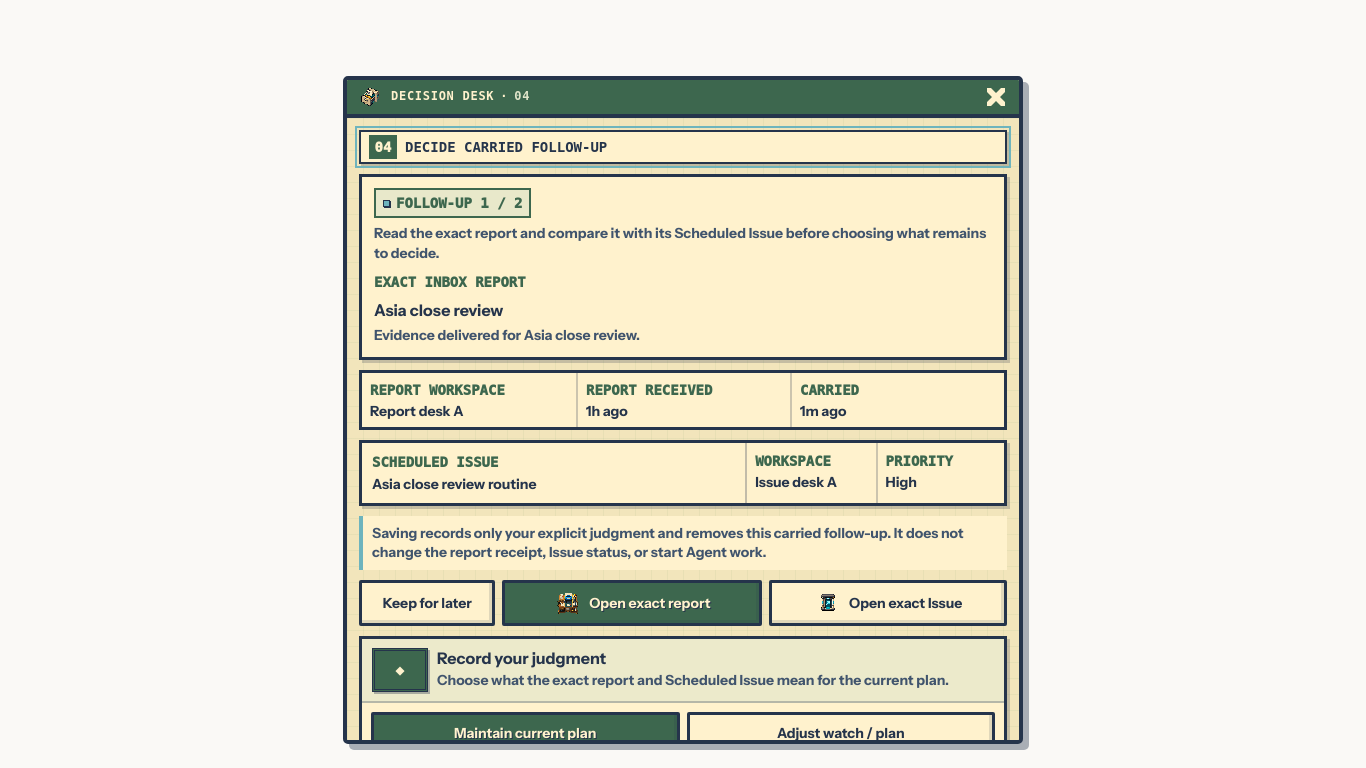
Test: OfficeRoutineDecisionDesk › keeps a failed revised judgment and its note available for an exact retry
Click the button "Adjust watch / plan" at (841, 734), box [686,712,995,756]
(page scrolled)
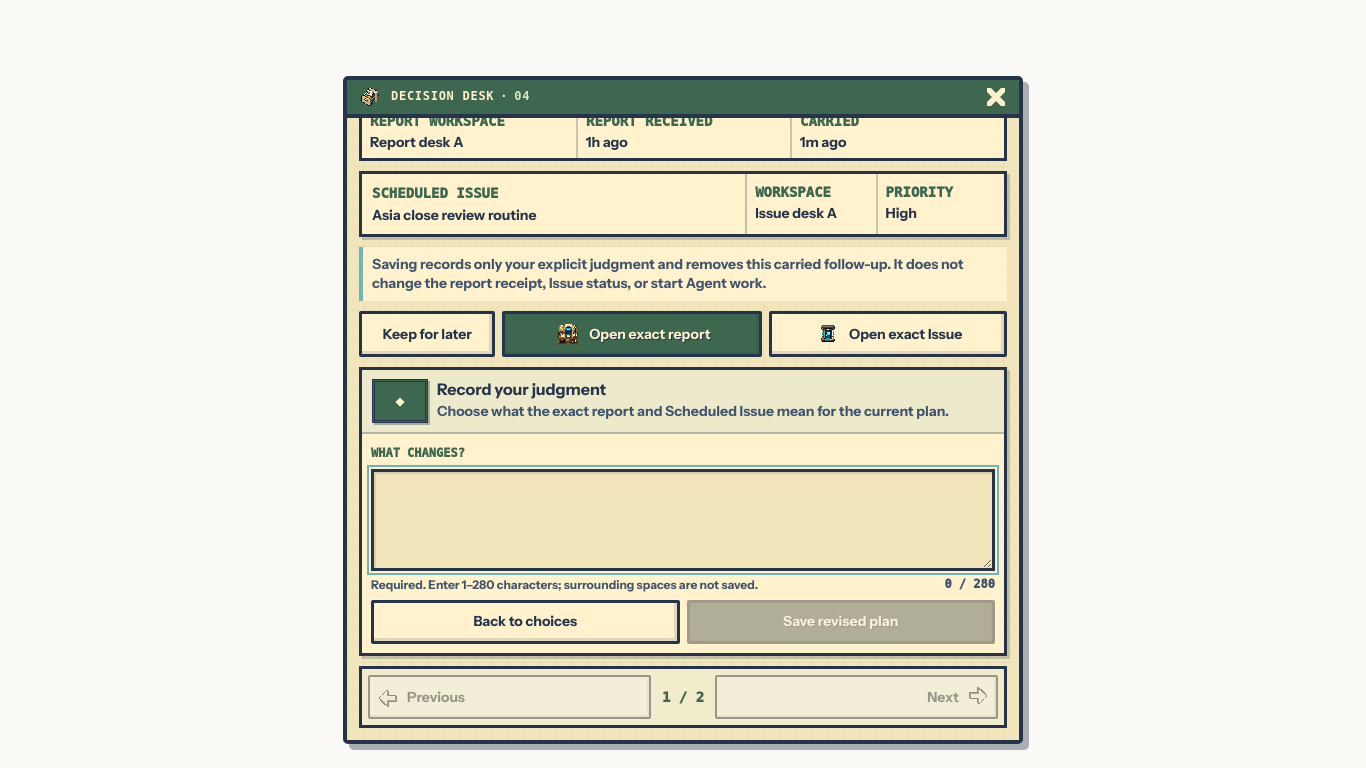
Type "Tighten the downside watch level." into the text box labelled "What changes?" at (683, 520), box [371,469,995,571]
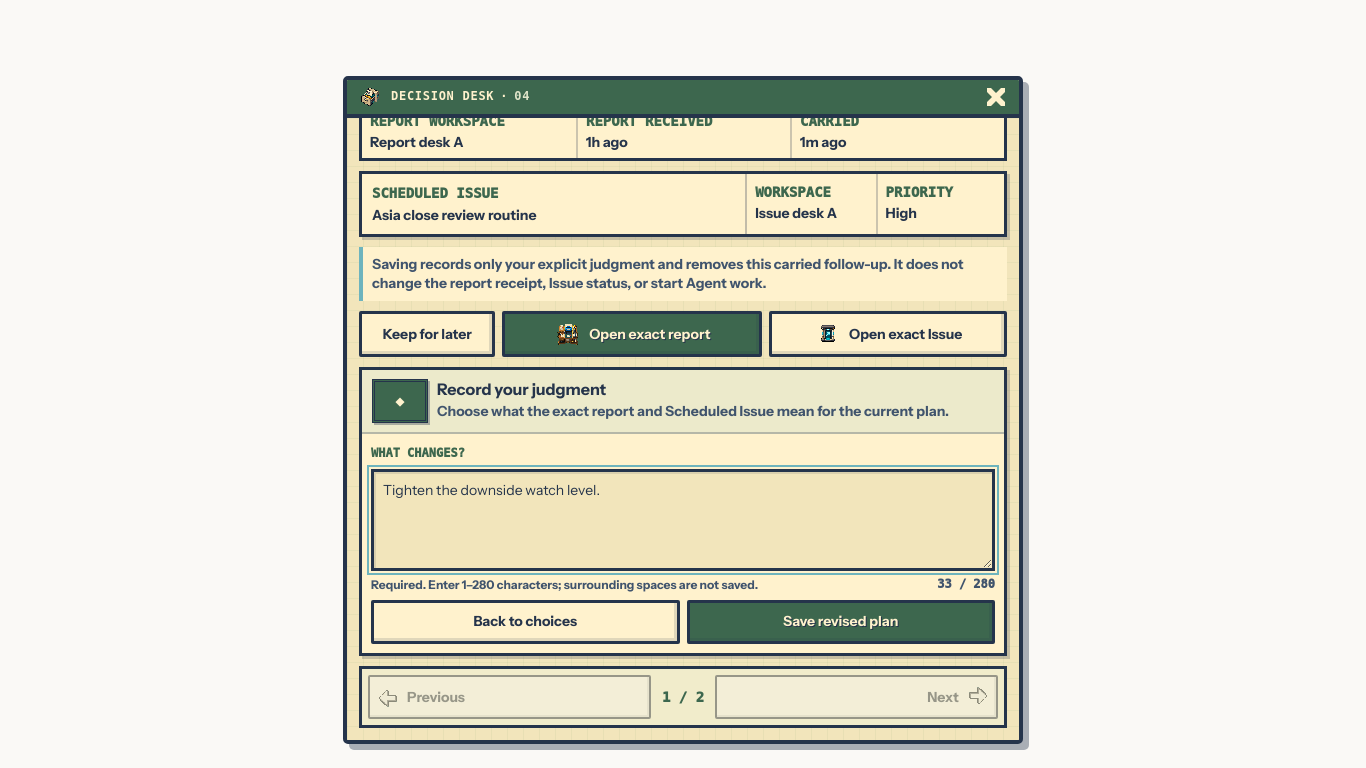
Click the button "Save revised plan" at (841, 622), box [686,600,995,644]
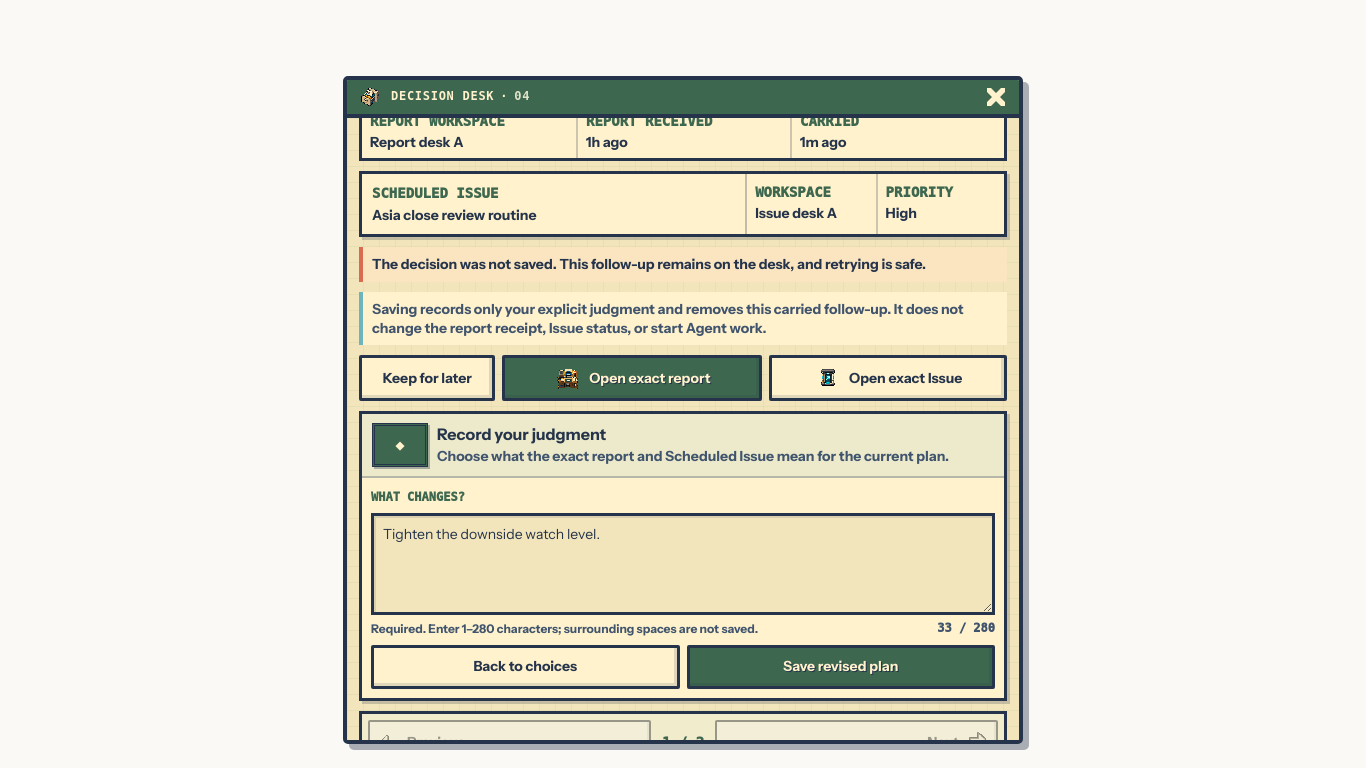
Now the message shows "The decision was not saved. This follow-up remains on the desk", box [372,255,926,273]
Click the button "Save revised plan" at (841, 667), box [686,645,995,689]
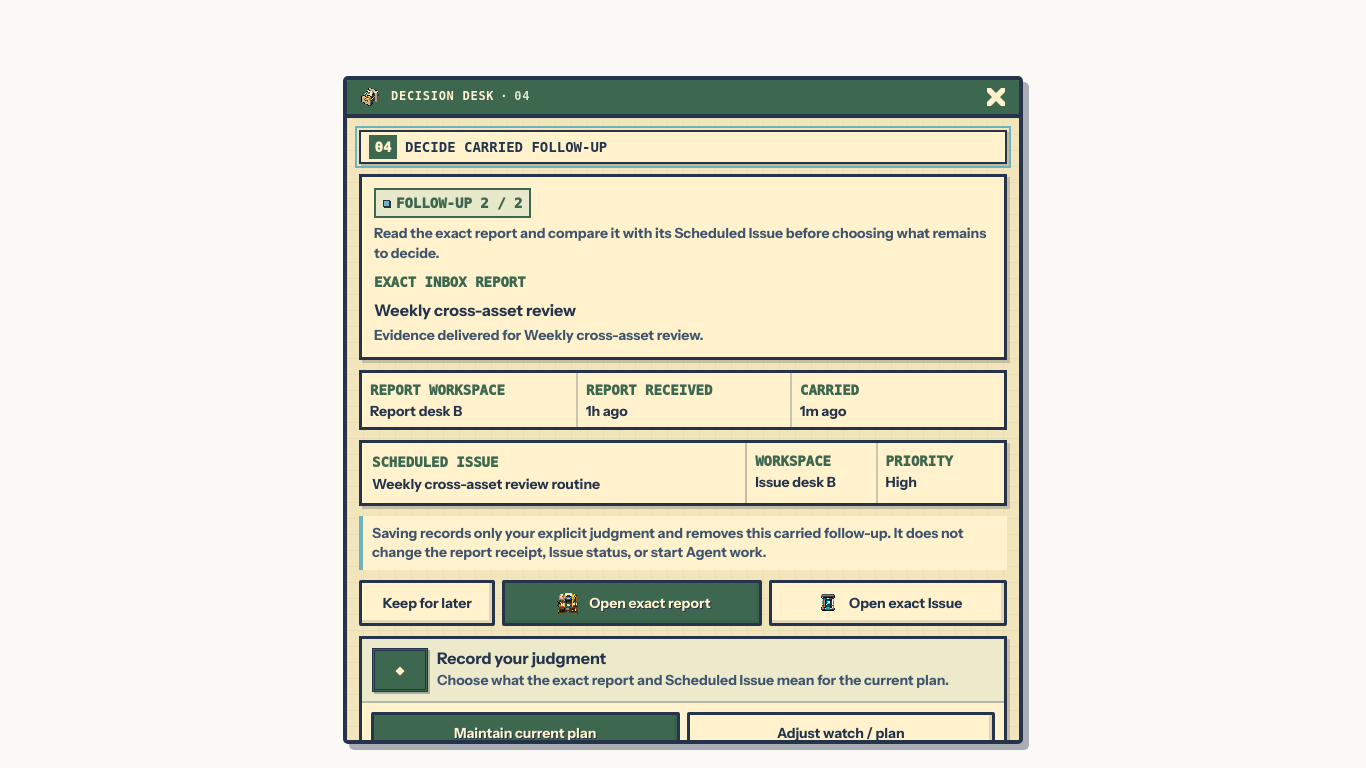
Now the heading "Weekly cross-asset review" is shown, box [374,300,576,320]
Now the label "What changes?" is gone
